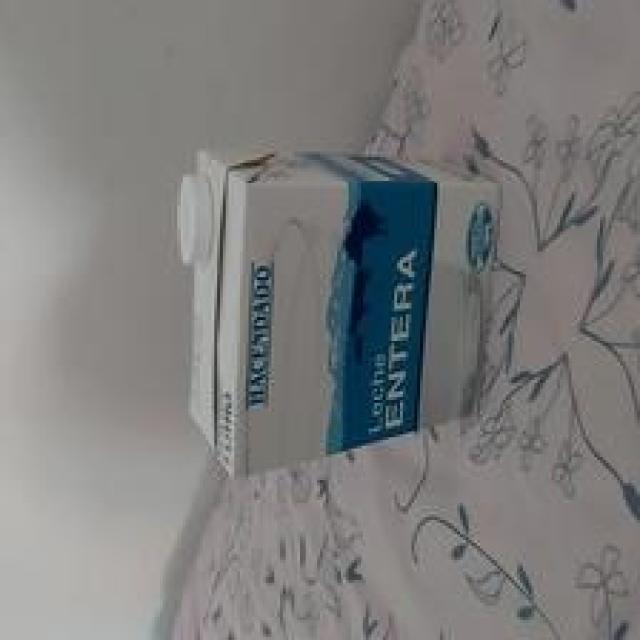Carton: (184, 152, 505, 485)
